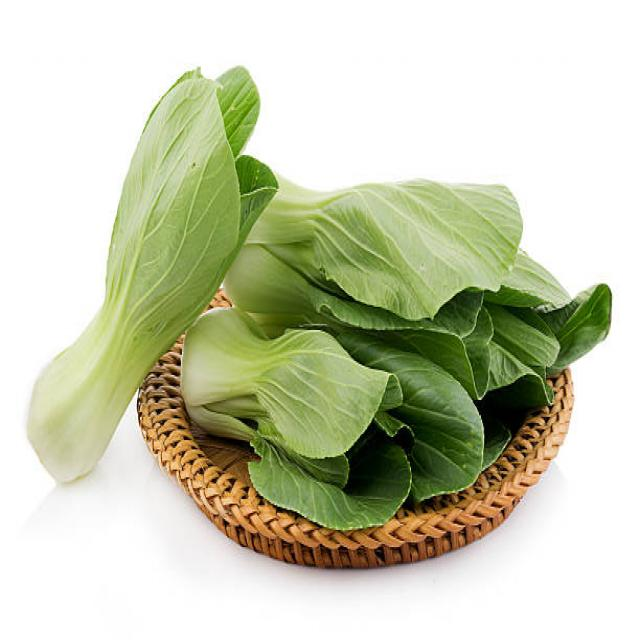bok choy: (21, 98, 173, 528), (215, 326, 491, 511), (271, 152, 554, 301)
